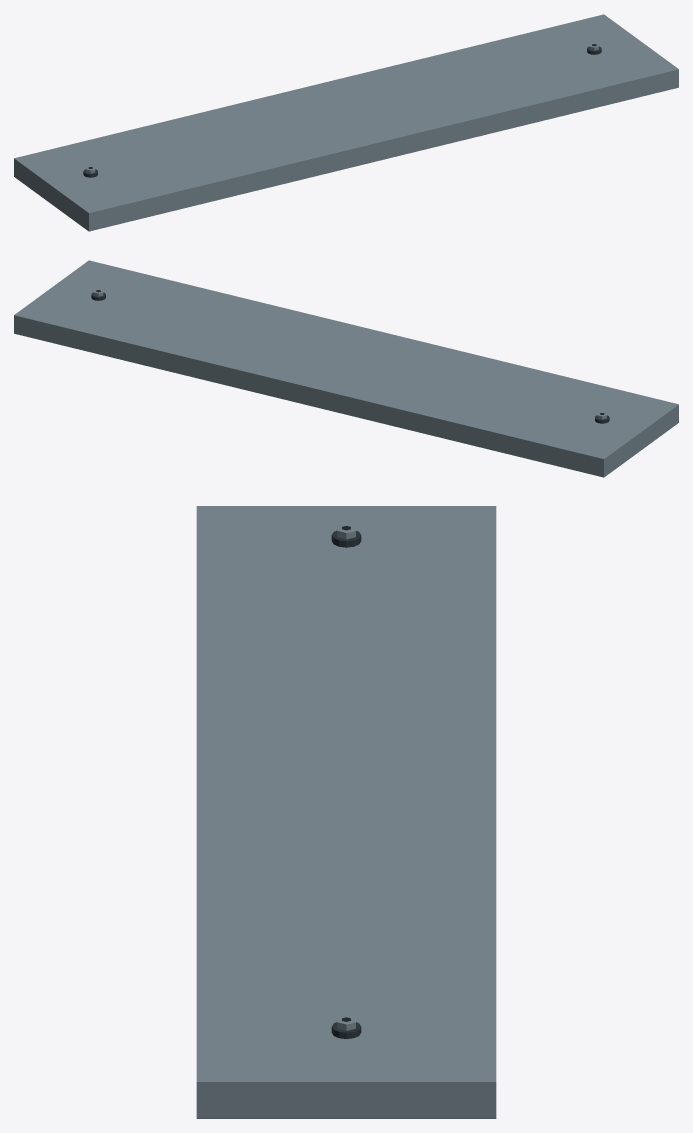
File: SM_Lab_DaisDeckPanel.fbx
The picture shows the model from 3 angles, top to bottom: view 1: azimuth 30°, elevation 25°; view 2: azimuth 150°, elevation 25°; view 3: azimuth 270°, elevation 25°; orthographic projection. The views are drawn at different scales.
Parts seen in each view (by area): view 1: SM_Lab_DaisDeckPanel; view 2: SM_Lab_DaisDeckPanel; view 3: SM_Lab_DaisDeckPanel.
Boxes of the visible parts, x1,y1,x2,y2 form: SM_Lab_DaisDeckPanel: [14, 14, 678, 231]; SM_Lab_DaisDeckPanel: [14, 260, 678, 477]; SM_Lab_DaisDeckPanel: [196, 506, 496, 1118].
Bounding box in the file's own units: 150 × 33 × 6.5.
